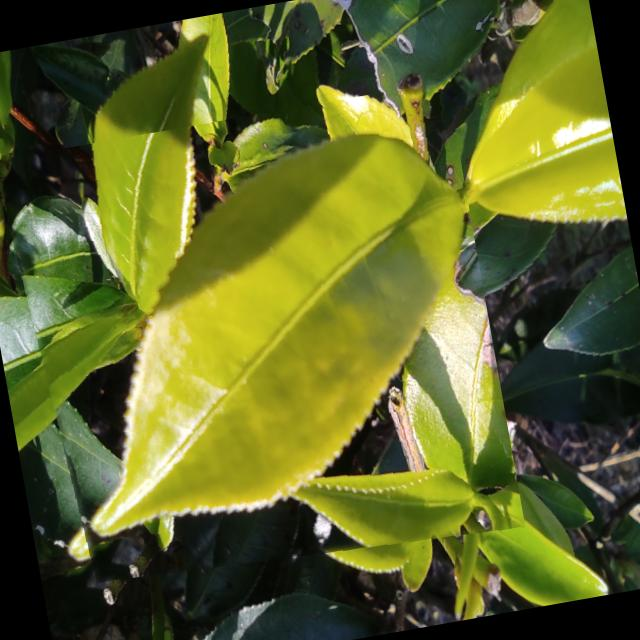Category B(2-4 days): (0, 81, 525, 608)
